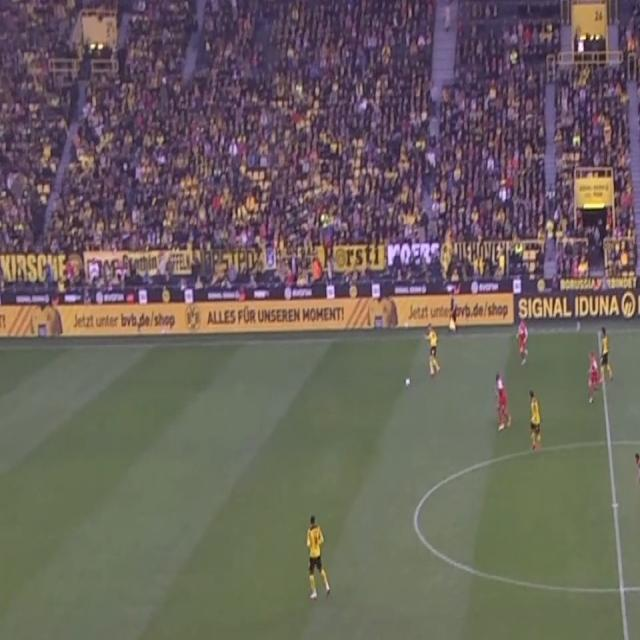ball: (405, 376, 411, 388)
